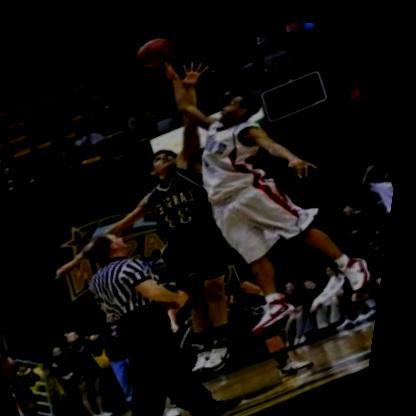basketball: (124, 19, 189, 81)
